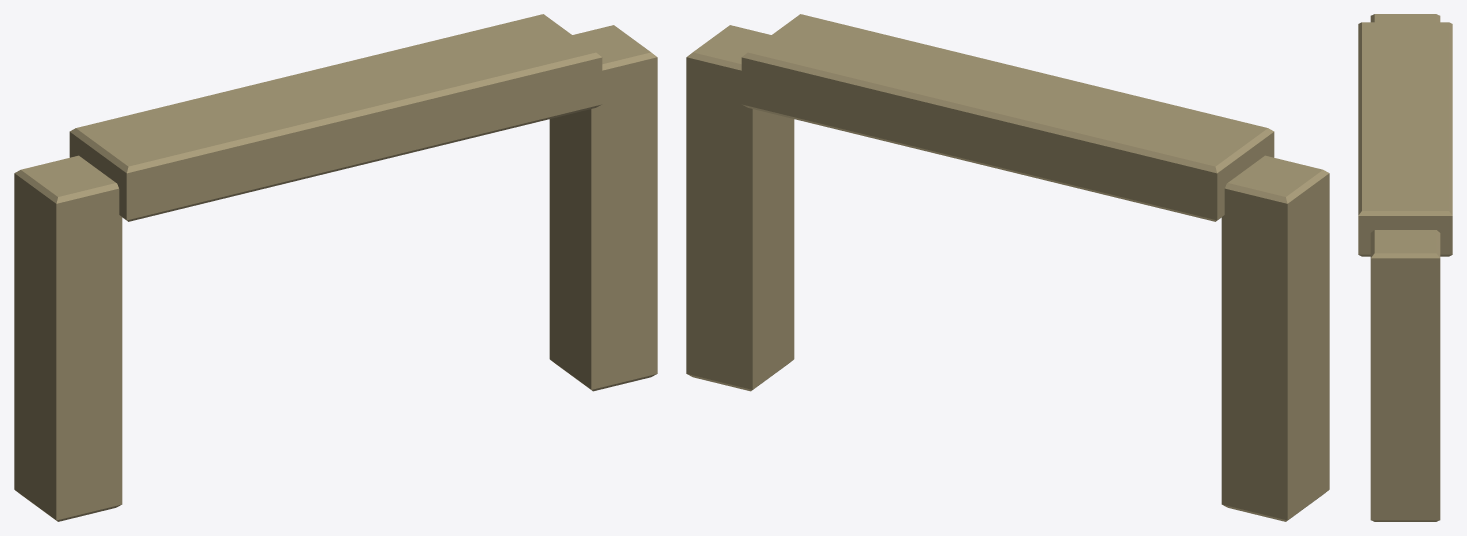
The model's file is portal_frame.obj.
3 renders of one model, left to right at view 1: azimuth 30°, elevation 25°; view 2: azimuth 150°, elevation 25°; view 3: azimuth 270°, elevation 25°, orthographic. The views are drawn at different scales.
Parts seen in each view (by area): view 1: portal_frame; view 2: portal_frame; view 3: portal_frame.
Part boxes in pixels (x1,y1,x2,y2): portal_frame: (14, 14, 657, 521); portal_frame: (686, 14, 1329, 521); portal_frame: (1358, 14, 1452, 521).
Bounding box in the file's own units: 18.2 × 10 × 3.
